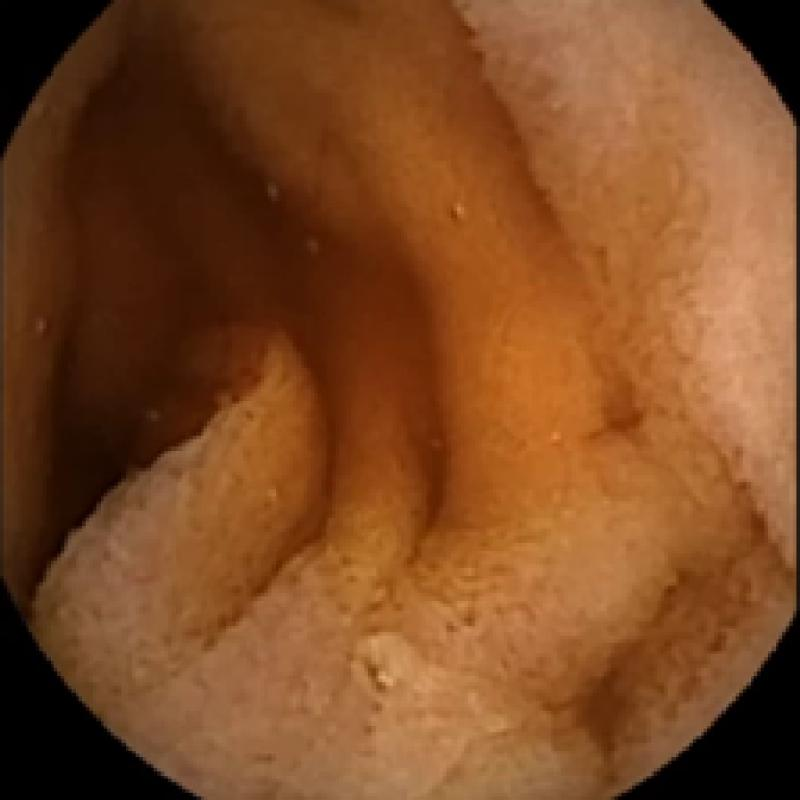bleeding: (43, 161, 214, 546)
